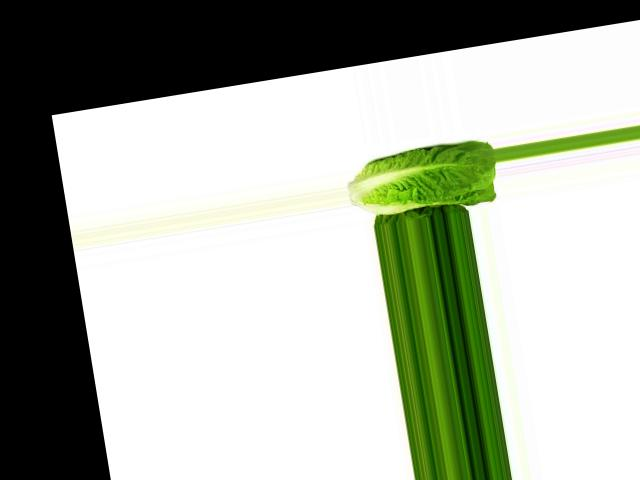lettuce: (342, 126, 502, 221)
